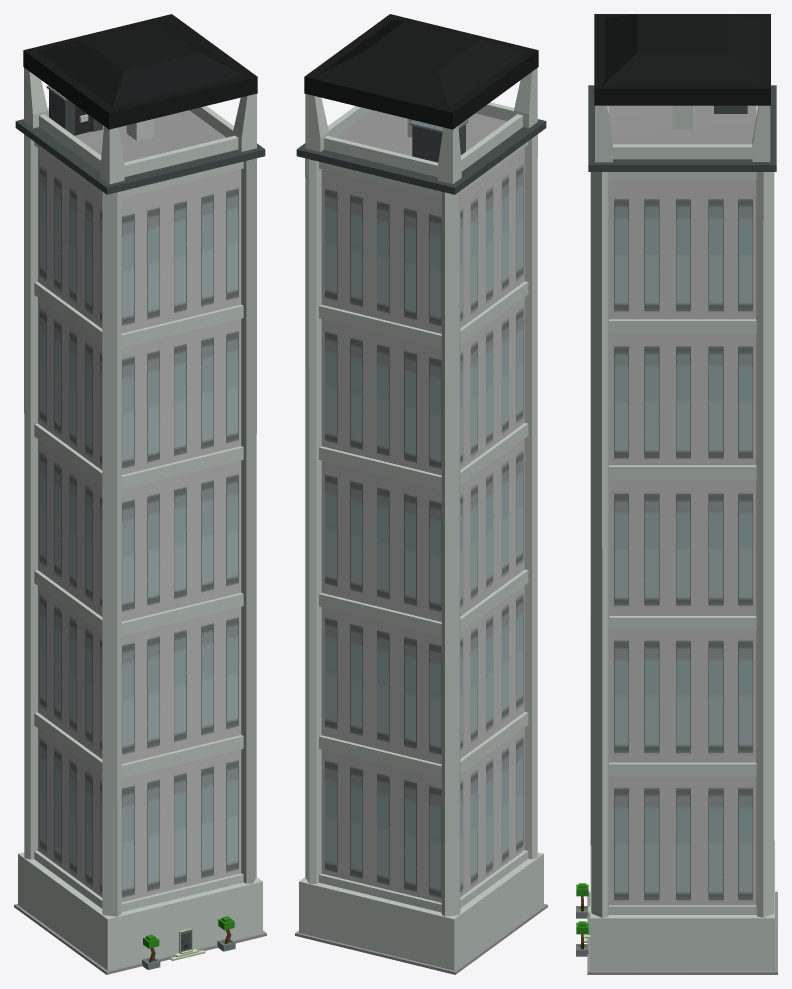
The model's file is Sky Scraper Pilars High.fbx.
3 views of the same model, side by side, from view 1: azimuth 30°, elevation 25°; view 2: azimuth 150°, elevation 25°; view 3: azimuth 270°, elevation 25° (orthographic). The views are drawn at different scales.
Parts seen in each view (by area): view 1: Sky Scraper Pilars High; view 2: Sky Scraper Pilars High; view 3: Sky Scraper Pilars High.
Part boxes in pixels (box(x1,y1,x2,y2)): Sky Scraper Pilars High: box(14, 14, 266, 974); Sky Scraper Pilars High: box(295, 14, 547, 974); Sky Scraper Pilars High: box(576, 14, 777, 974).
Size of the model in its own units: 6.16 by 32.13 by 6.52.
